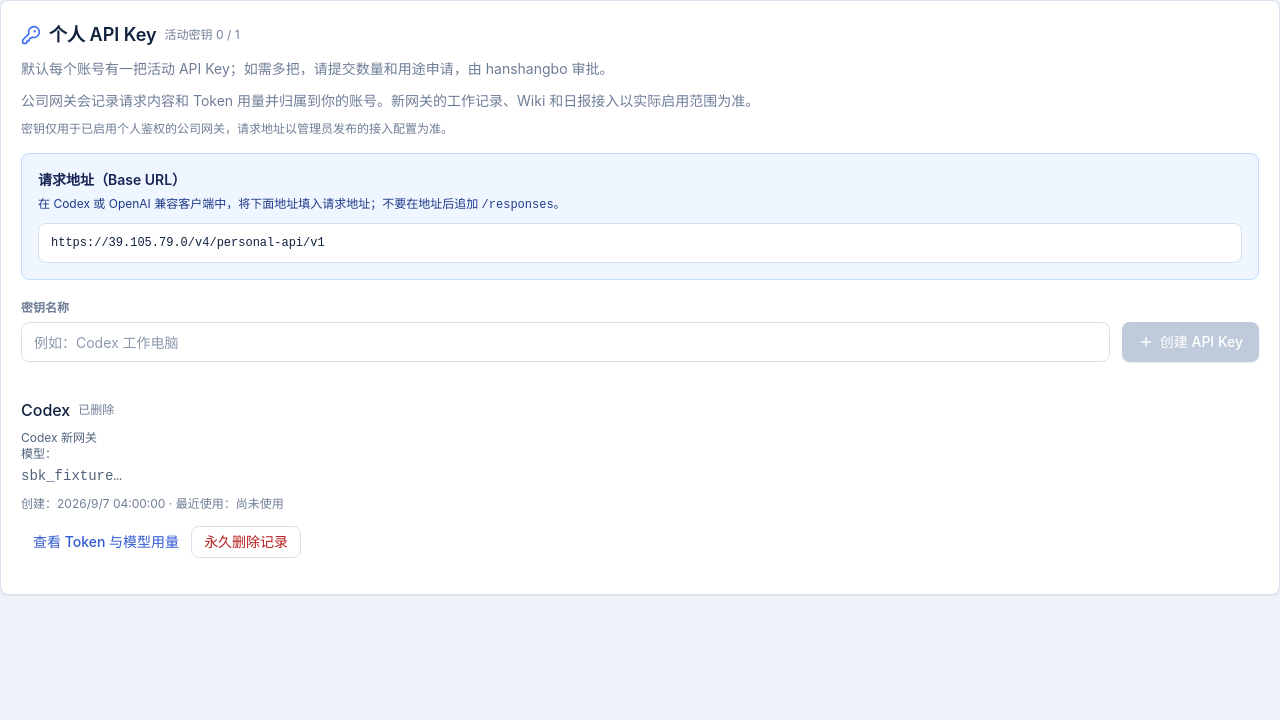
PersonalApiKeys › does not hide a revoked record before gateway removal is confirmed
Expected: the text "Codex" is shown, [21,398,70,422]
Click the button with aria-label "永久删除 Codex": {"x": 246, "y": 542} [191,526,301,558]
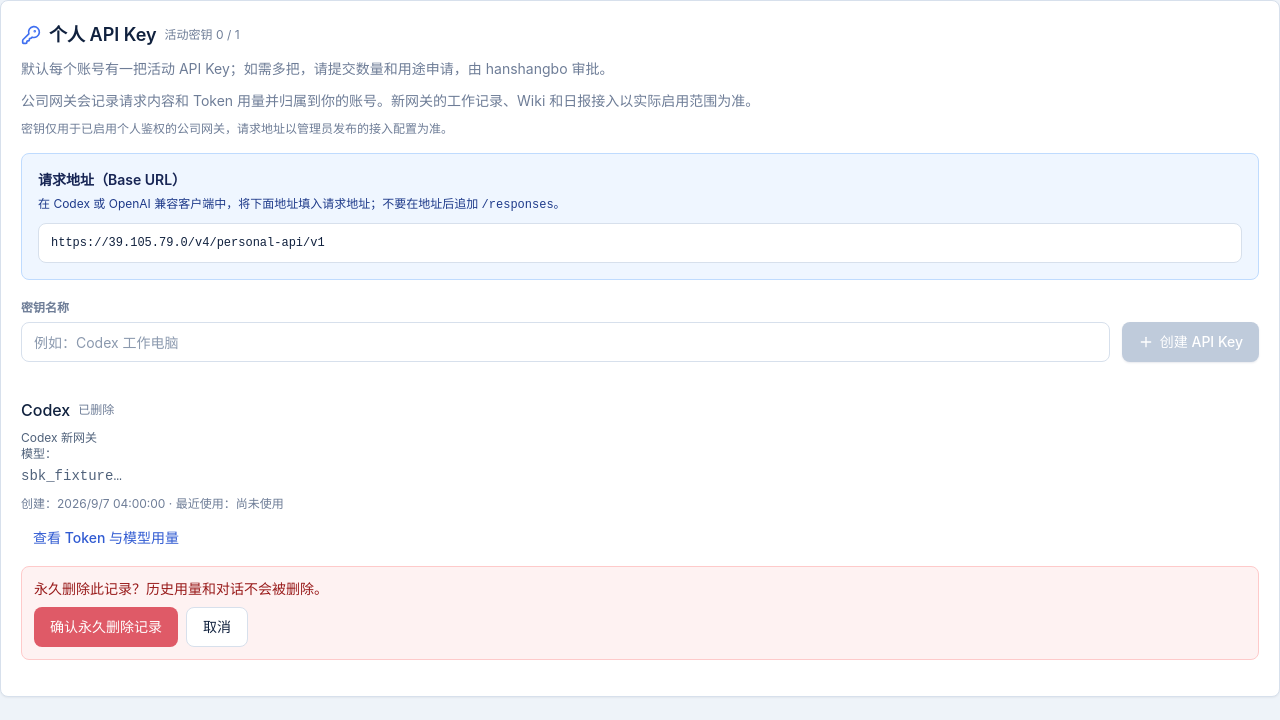
Click the button "确认永久删除记录": {"x": 106, "y": 627} [34,607,178,647]
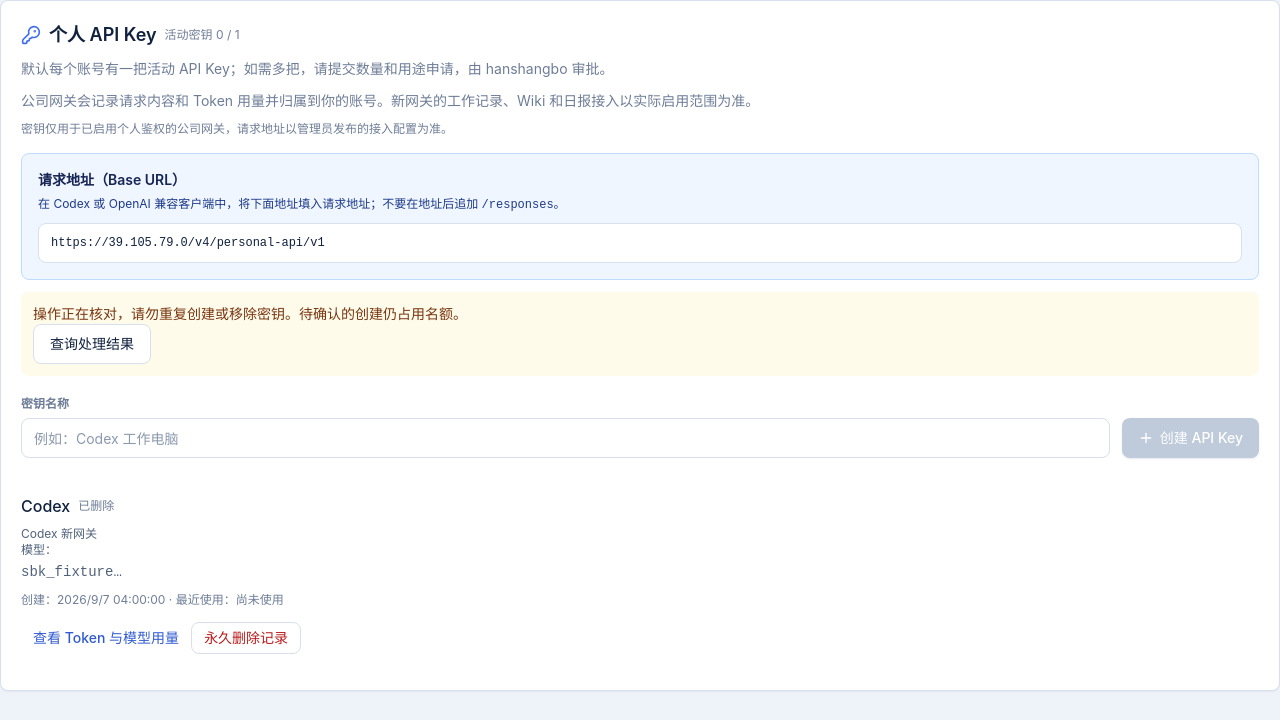
Expected: the text "Codex" is shown, [21,494,70,518]
Expected: the text "操作正在核对，请勿重复创建或移除密钥。待确认的创建仍占用名额。" is shown, [33,305,467,322]
